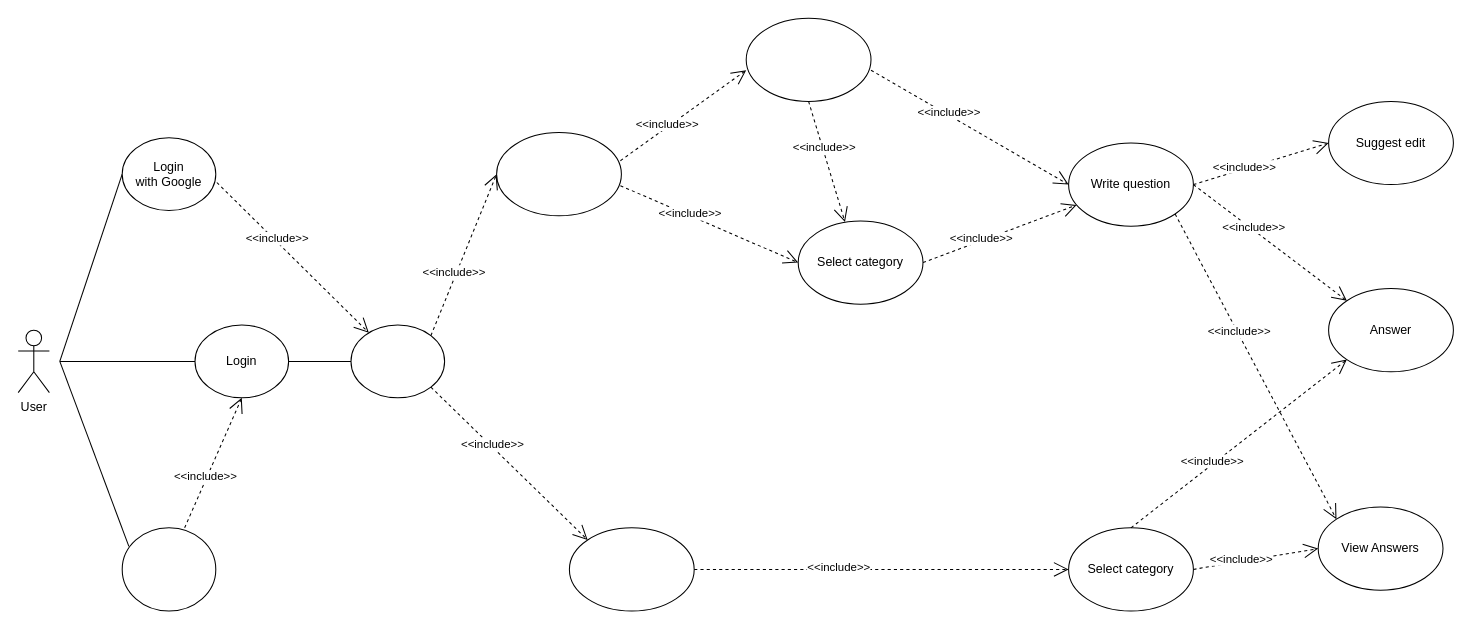
The diagram is 1472 pixels wide and 629 high, and some of its shapes have lost their labels. The box of each missing label's shape, as (x1, y1, x2, y2) in pixels:
Add category: (745, 17, 871, 101)
Ask a question: (496, 132, 621, 216)
Browse questions: (568, 527, 694, 611)
Landing: (350, 324, 445, 398)
Register: (121, 527, 216, 611)
